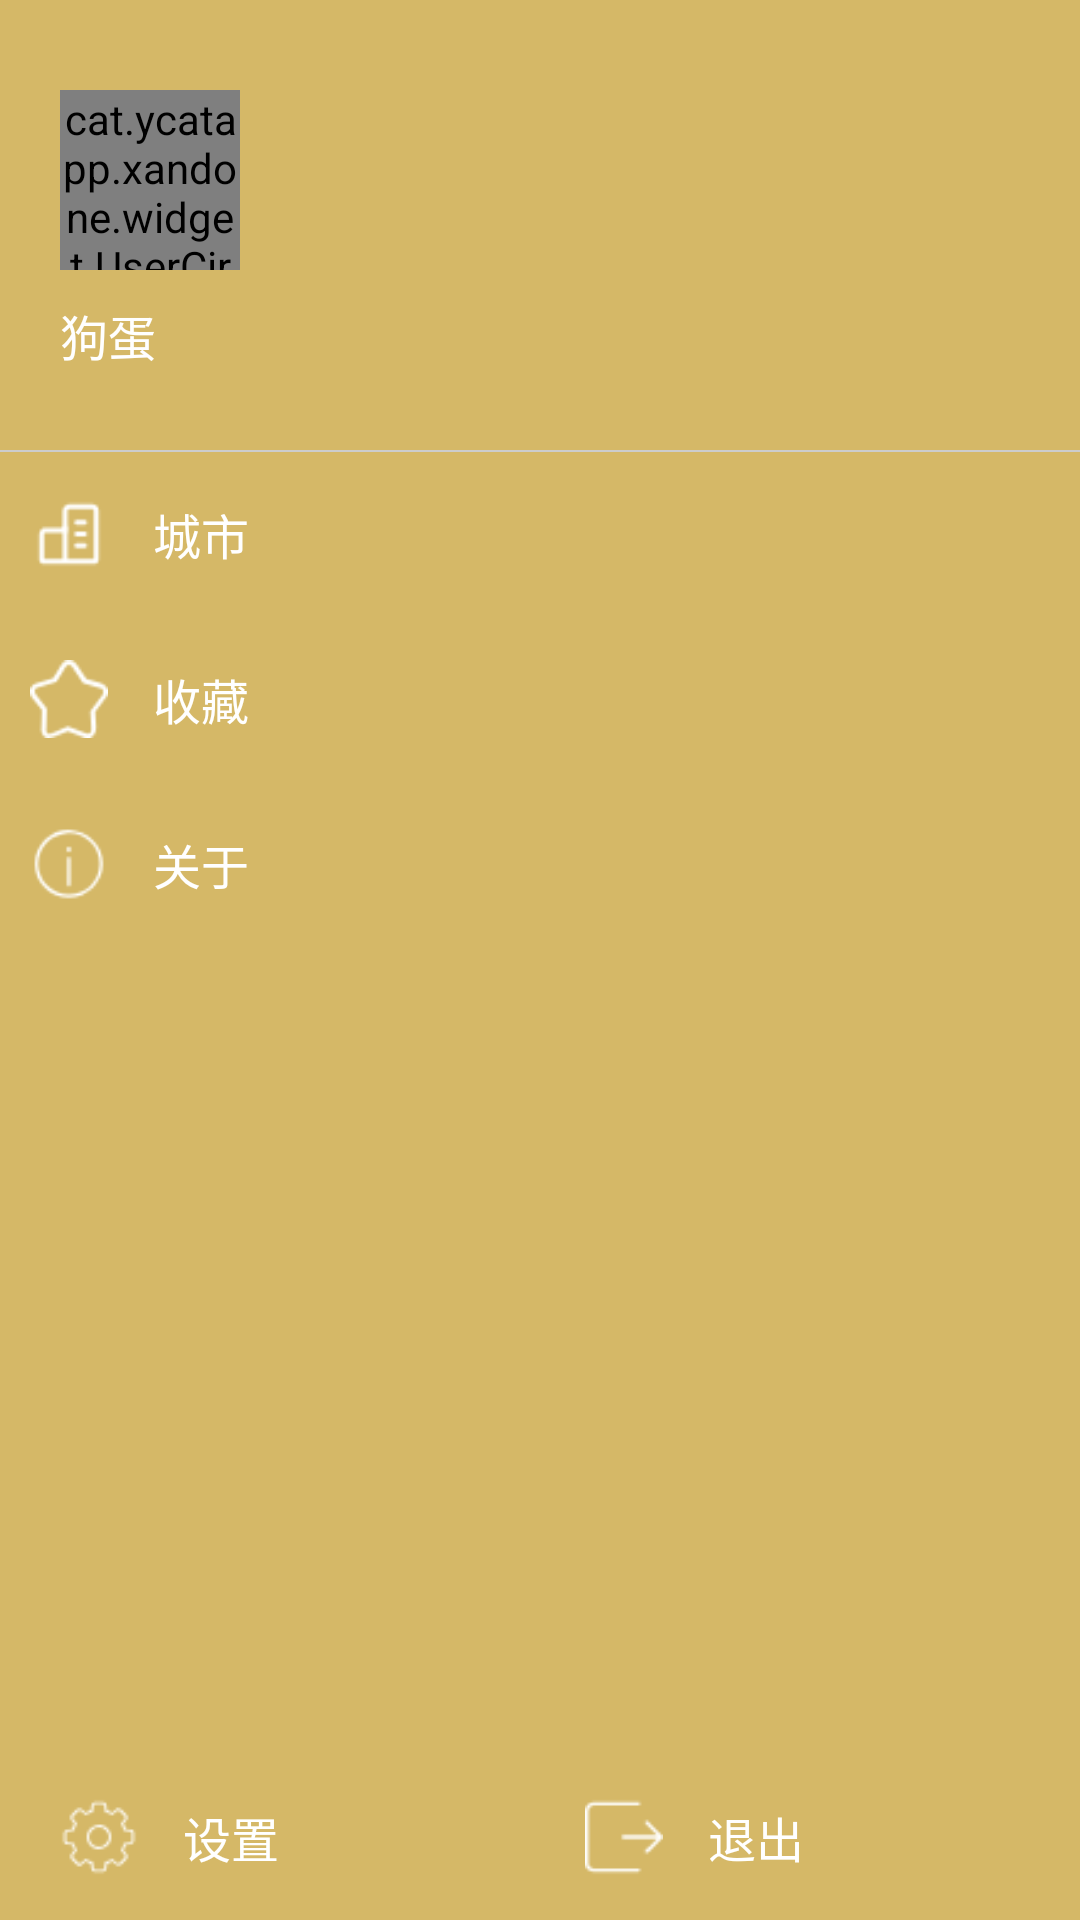

Point at icon controls on the screen. Image size 1080x1920, points as [x,y].
about: [69,864]
collection: [69,699]
out: [624,1837]
set: [99,1837]
